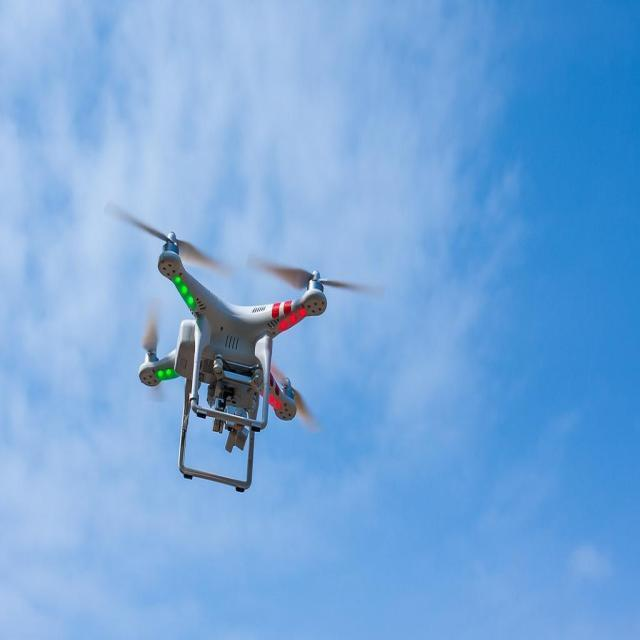drone: (137, 229, 326, 495)
